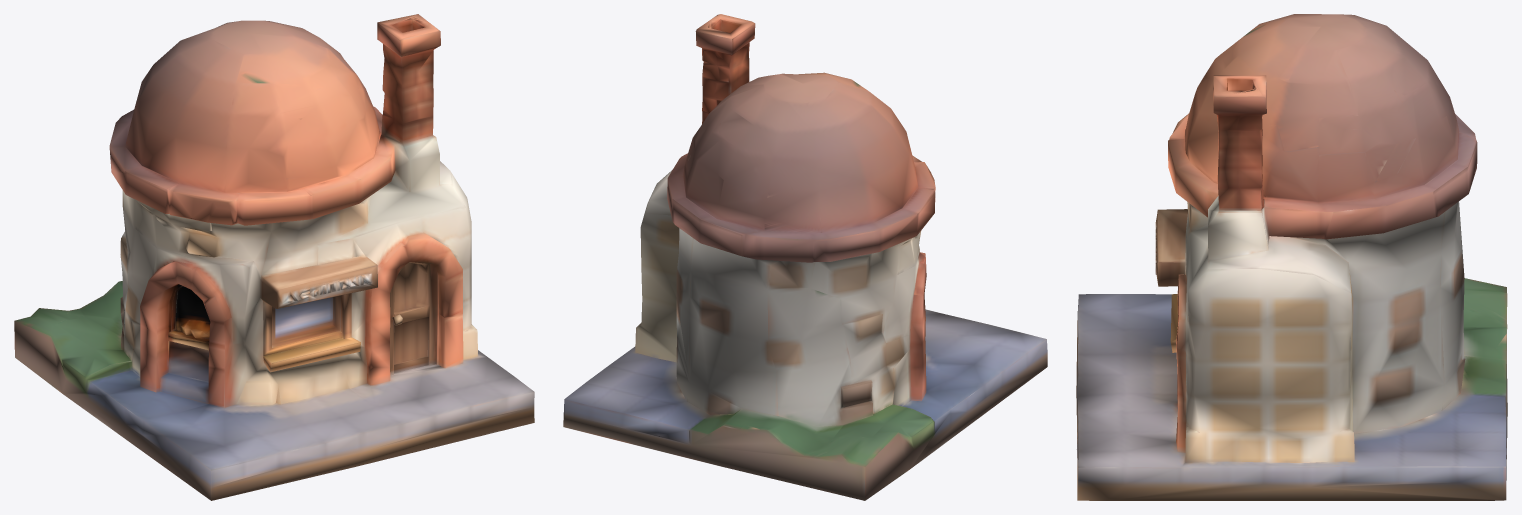
The model's file is firin.glb.
3 views of the same model, side by side, from view 1: azimuth 30°, elevation 25°; view 2: azimuth 150°, elevation 25°; view 3: azimuth 270°, elevation 25° (orthographic). The views are drawn at different scales.
Parts seen in each view (by area): view 1: node_0; view 2: node_0; view 3: node_0.
Boxes of the visible parts, bbox=[...] form: node_0: bbox=[14, 14, 534, 500]; node_0: bbox=[563, 14, 1047, 500]; node_0: bbox=[1076, 14, 1507, 500].
Bounding box in the file's own units: 0.6763 × 0.7055 × 0.7074.
1 material, 1 textured.
